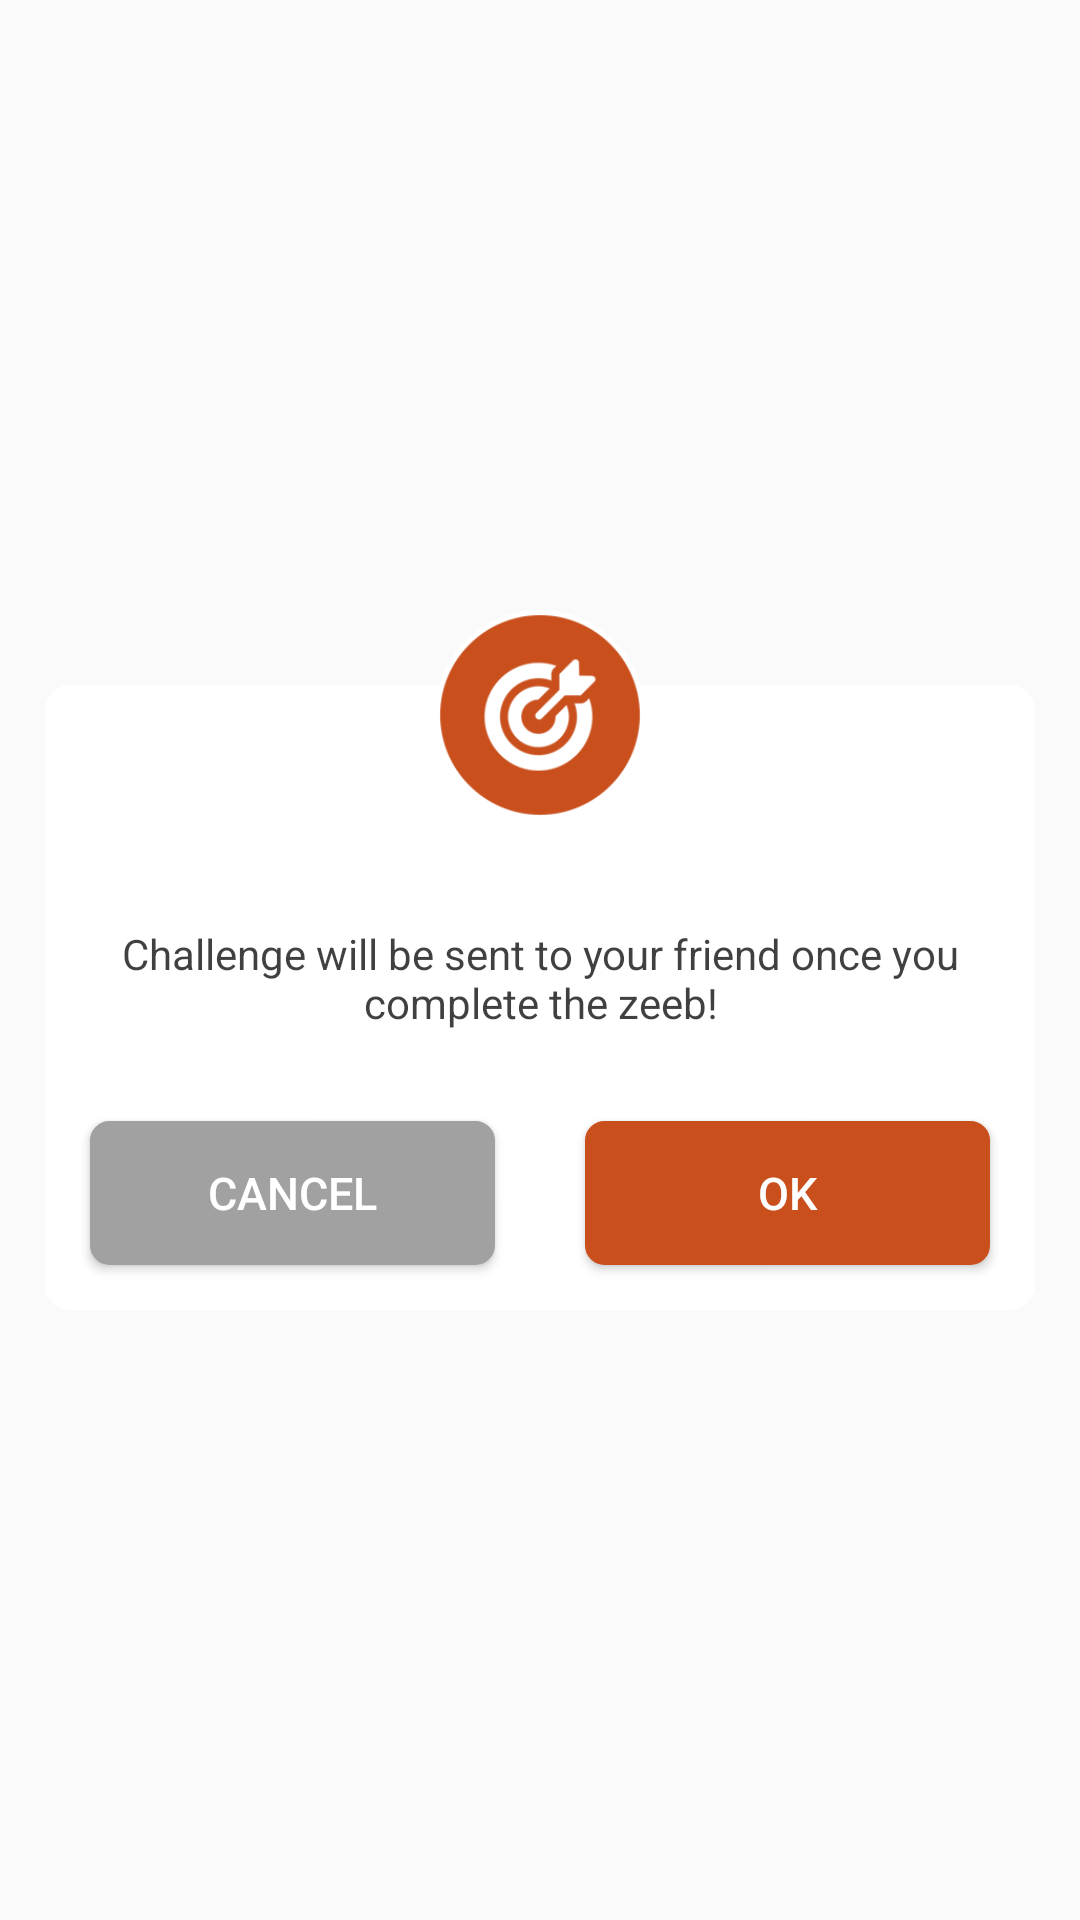

Point at icon controls on the screen. Image size 1080w x 1920h, points as point (x, y).
challenges dialog: point (540, 715)
